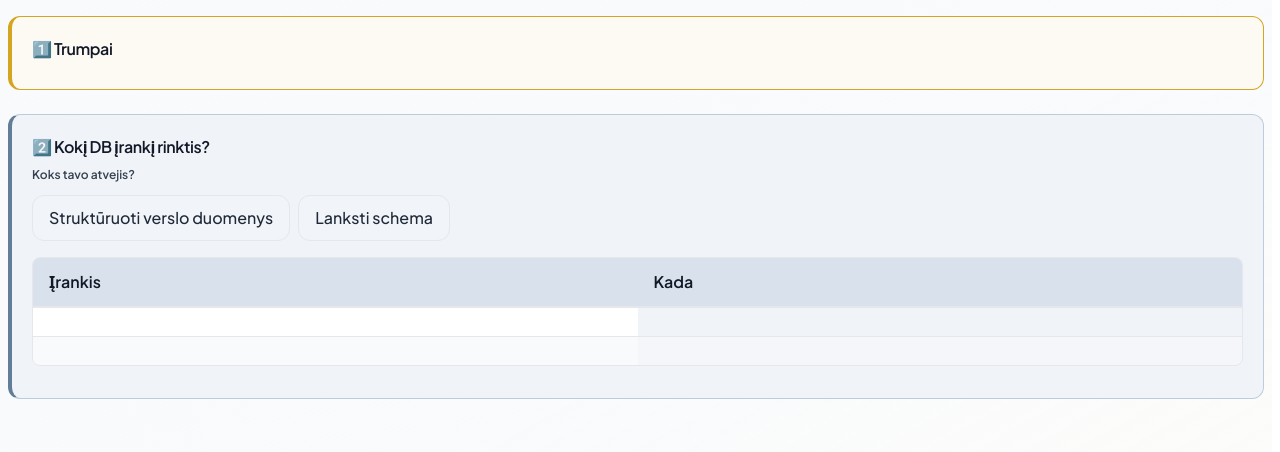
Test: ContentBlockSlide toolChoiceBar whenHint (chips) › shows whenHint after the first chip is selected
Click the button "Struktūruoti verslo duomenys": (161, 218) [32,195,290,241]
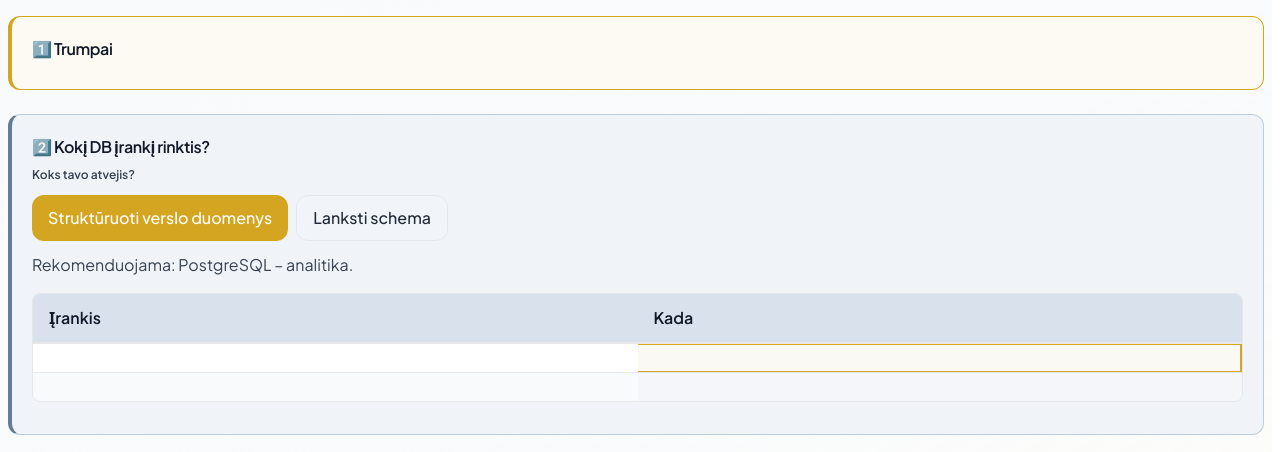
Check: the text "Rekomenduojama: PostgreSQL – analitika." is shown, box [32,254,353,275]
